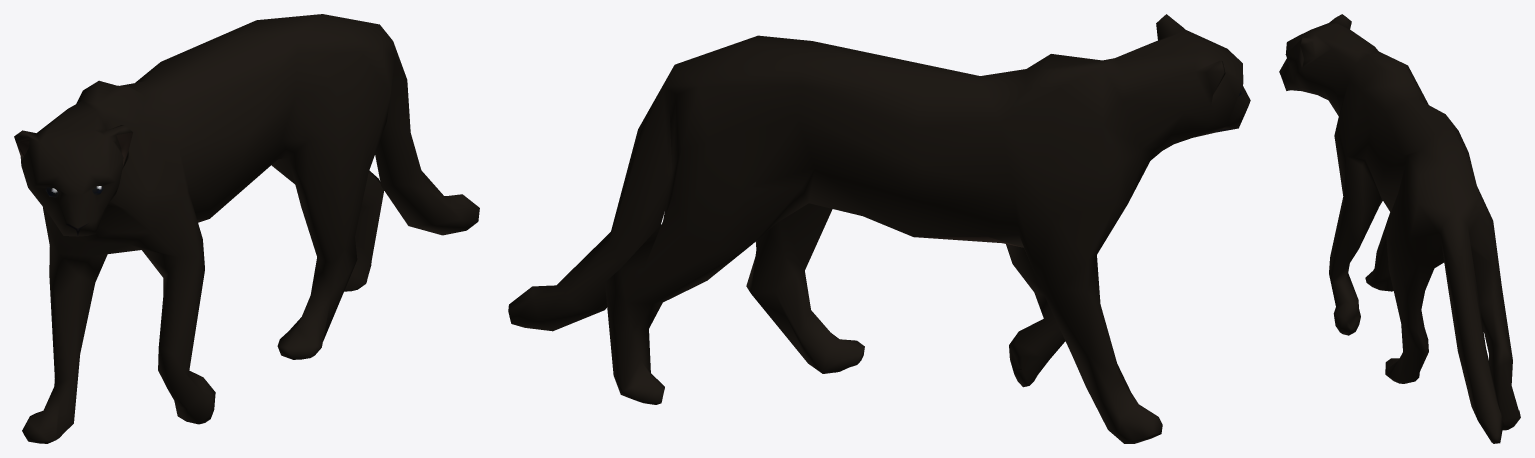
The model's file is Panther02.glb.
3 views of the same model, side by side, from view 1: azimuth 30°, elevation 25°; view 2: azimuth 150°, elevation 25°; view 3: azimuth 270°, elevation 25° (orthographic). The views are drawn at different scales.
Parts seen in each view (by area): view 1: Panther02; view 2: Panther02; view 3: Panther02.
Boxes of the visible parts, box(x1,y1,x2,y2) form: Panther02: box(14, 14, 479, 443); Panther02: box(508, 14, 1250, 443); Panther02: box(1279, 14, 1520, 443).
Size of what is drawn, in the model's own units: 2.04 by 1.2 by 1.01.
Materials: 1 (1 with a texture image).
